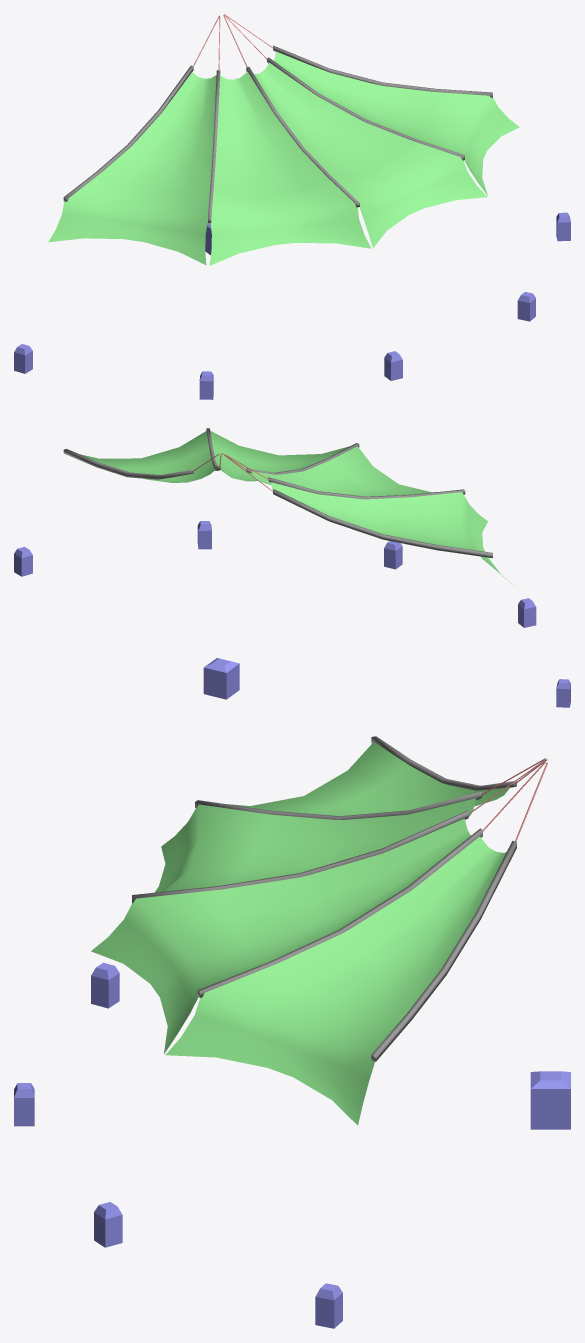
File: L2fortress_02_s__Fort02_warehouse_cap.gltf
The picture shows the model from 3 angles, top to bottom: view 1: azimuth 30°, elevation 25°; view 2: azimuth 150°, elevation 25°; view 3: azimuth 270°, elevation 25°; orthographic projection. The views are drawn at different scales.
Parts seen in each view (by area): view 1: Fort02_warehouse_cap; view 2: Fort02_warehouse_cap; view 3: Fort02_warehouse_cap.
Boxes of the visible parts, x1,y1,x2,y2 form: Fort02_warehouse_cap: [14, 14, 570, 399]; Fort02_warehouse_cap: [14, 428, 570, 707]; Fort02_warehouse_cap: [14, 736, 570, 1328].
Bounding box in the file's own units: 7.61 × 3.1 × 4.32.
